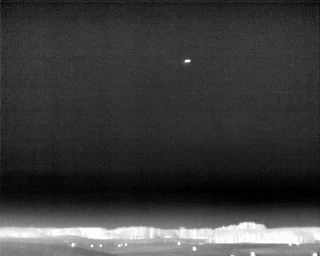AIRPLANE: (182, 56, 193, 66)
